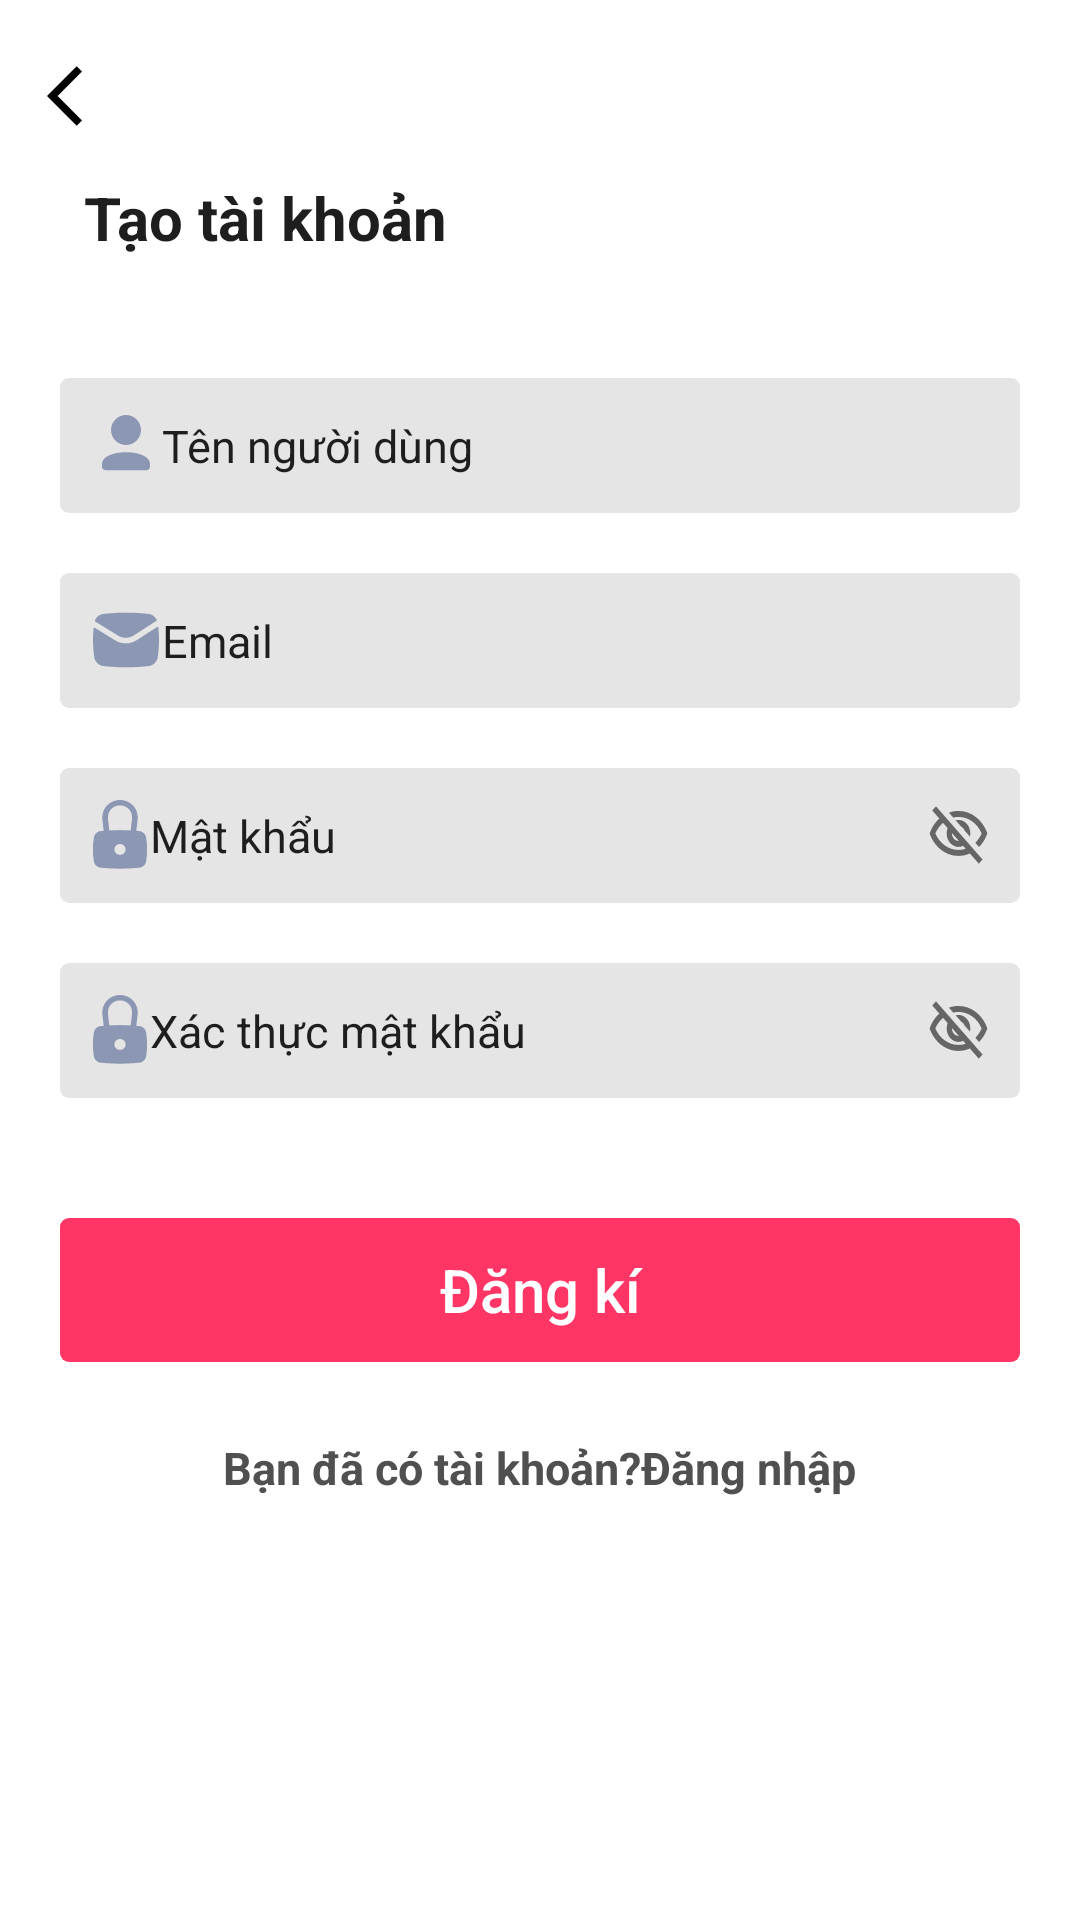

Where icons sit on this 1080*1920 app screen, as (x1, y1, x2, y2):
back arrow: (47, 66, 82, 126)
